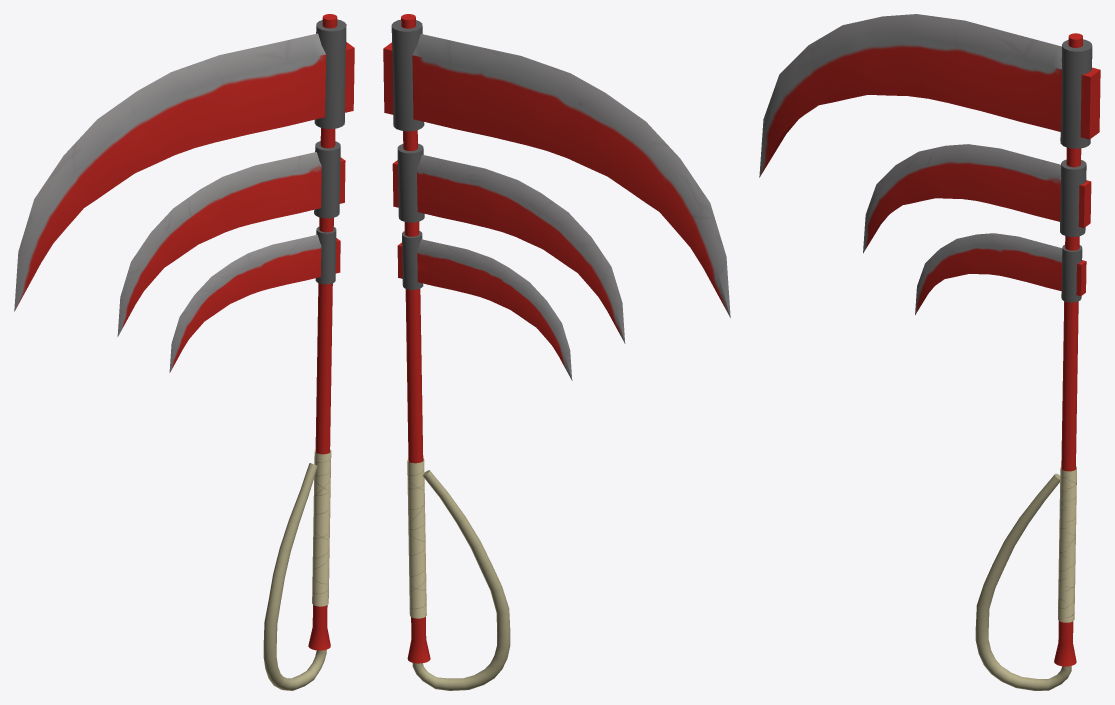
Rendered from hidan blade.glb.
The picture shows the model from 3 angles, left to right: view 1: azimuth 30°, elevation 25°; view 2: azimuth 150°, elevation 25°; view 3: azimuth 330°, elevation 25°; orthographic projection. The views are drawn at different scales.
Visible parts, largest first — view 1: Hidan Weapon_0; view 2: Hidan Weapon_0; view 3: Hidan Weapon_0.
Boxes of the visible parts, left/top/right/bottom form: Hidan Weapon_0: left=14, top=14, right=354, bottom=690; Hidan Weapon_0: left=383, top=14, right=730, bottom=690; Hidan Weapon_0: left=759, top=14, right=1100, bottom=690.
Bounding box in the file's own units: 2.12 × 3.96 × 0.3031.
1 material, 1 textured.
